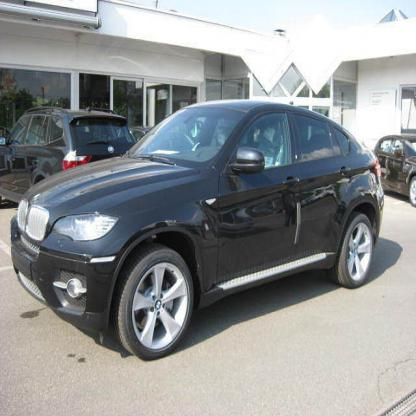Vehicle: (11, 99, 386, 360)
